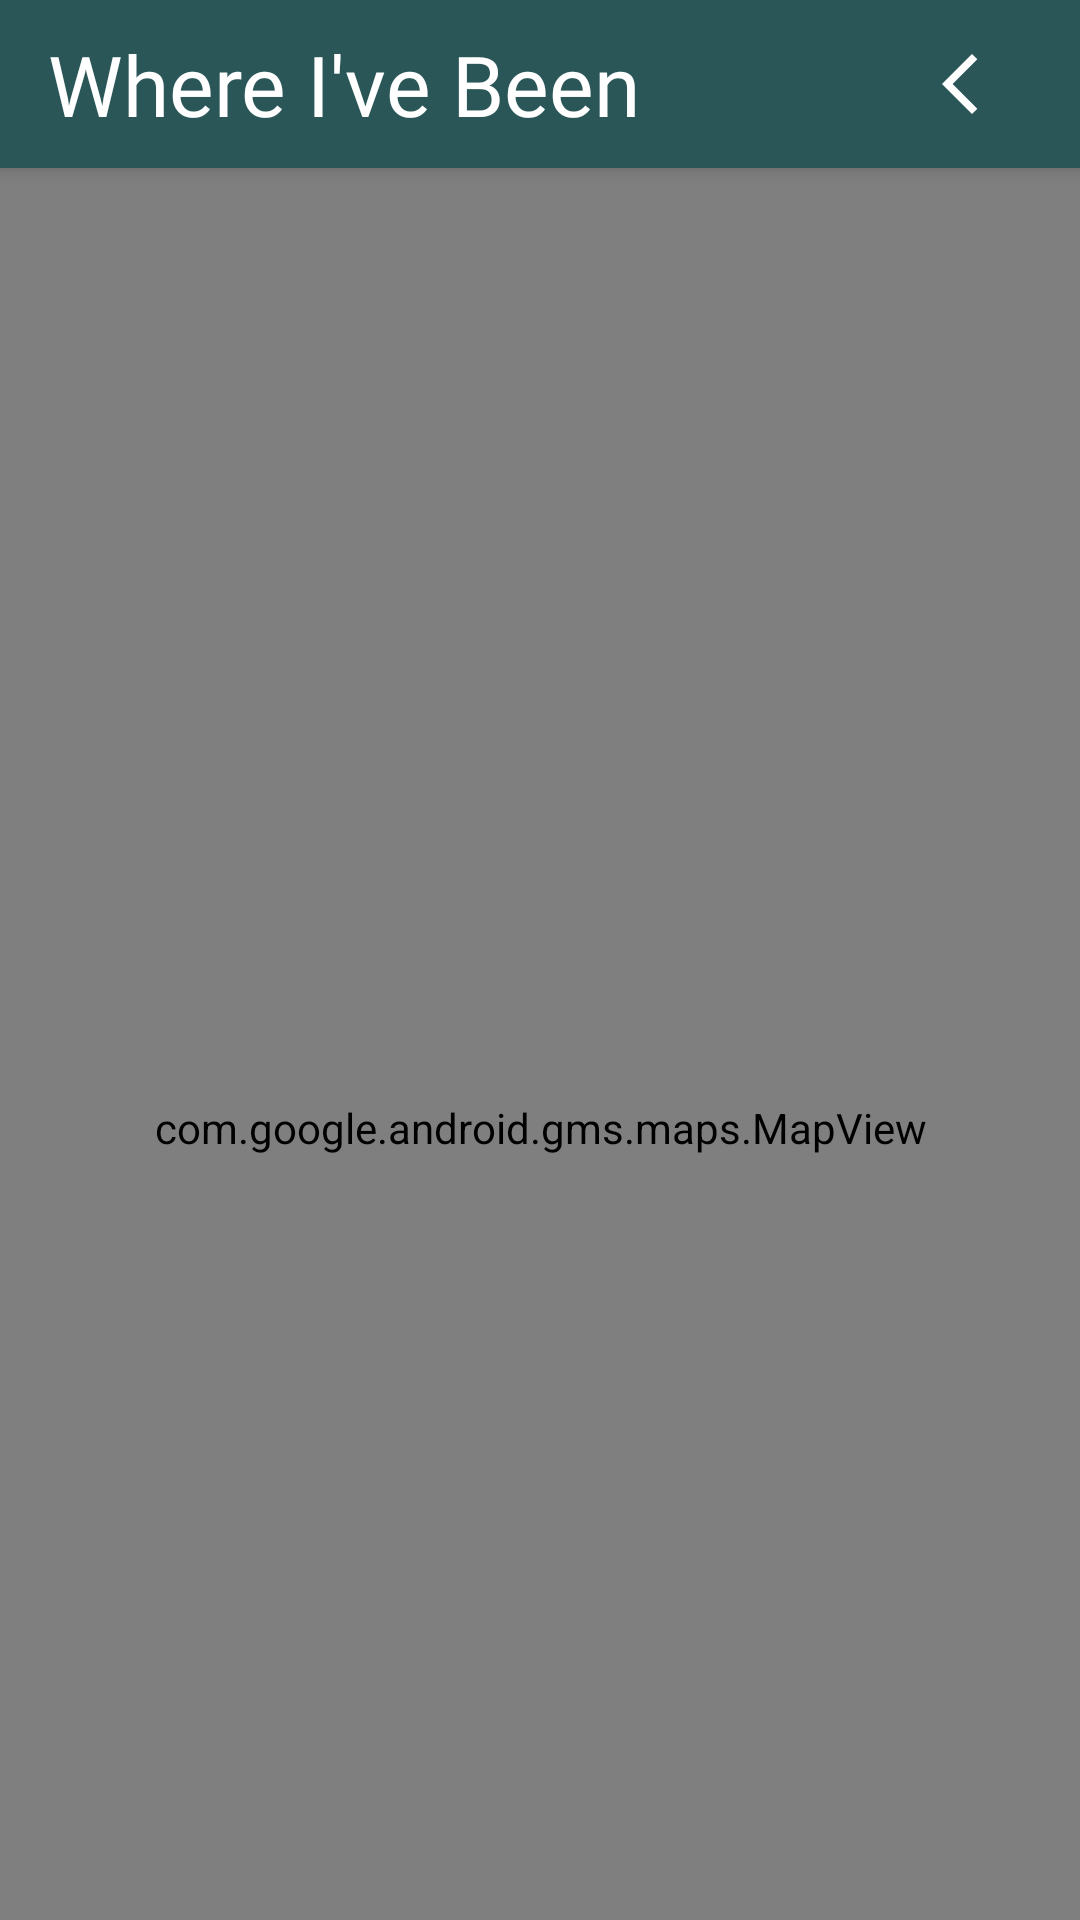

Named icons in this screenshot (1080w x 1920h) and their bounding boxes, {"left": x1, "top": y1, "right": x2, "bottom": y2}:
Back: {"left": 942, "top": 54, "right": 977, "bottom": 114}
